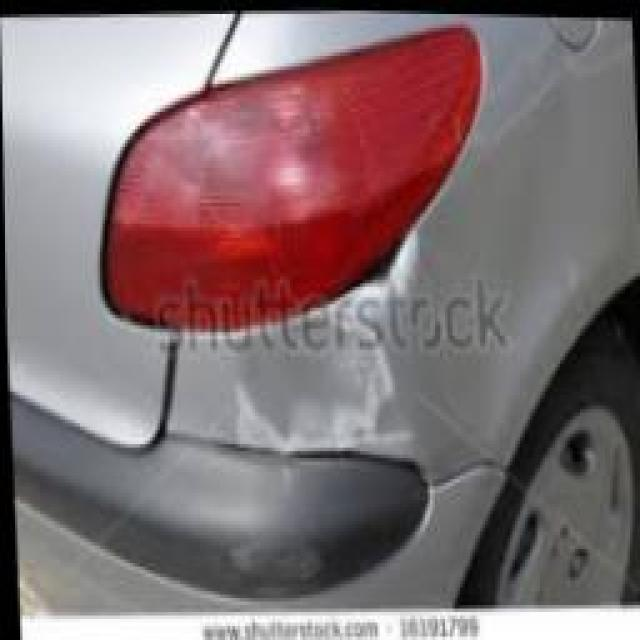Fender: (174, 214, 506, 472)
